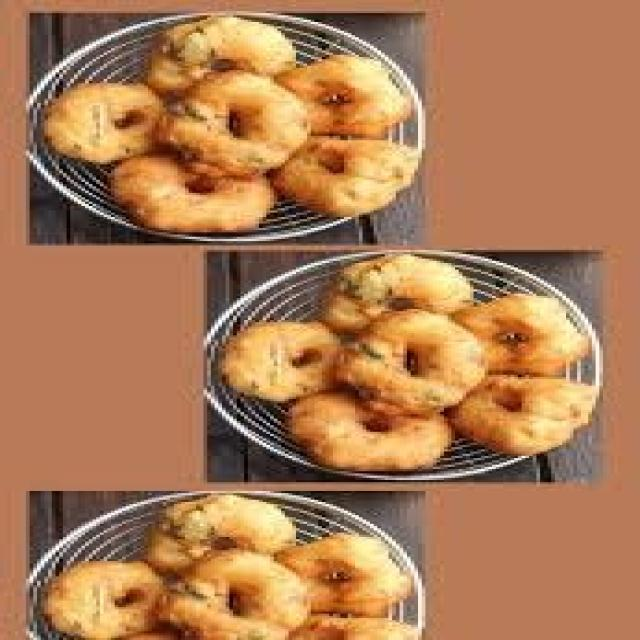medu vadai: (12, 0, 432, 244), (224, 258, 640, 492), (213, 251, 606, 483), (26, 489, 466, 640), (17, 491, 429, 638), (333, 310, 487, 414), (287, 389, 453, 471), (108, 152, 276, 232), (161, 551, 313, 637), (145, 16, 297, 95), (146, 494, 297, 572), (449, 292, 589, 376), (272, 54, 412, 138), (320, 255, 472, 332), (218, 322, 345, 402), (42, 83, 166, 164), (43, 560, 170, 639)
